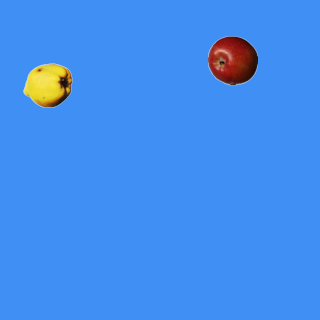Apple Braeburn: (207, 35, 257, 85)
Quince: (22, 60, 72, 110)
